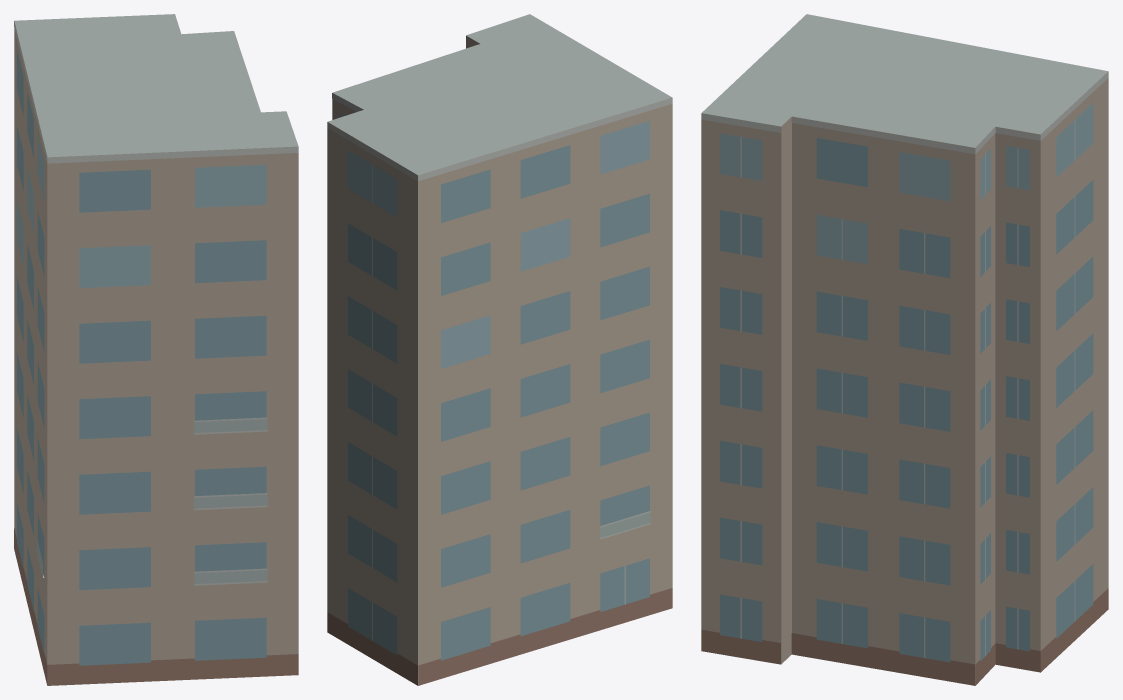
The model's file is survey-upis-32997789.glb.
3 views of the same model, side by side, from view 1: azimuth 30°, elevation 25°; view 2: azimuth 150°, elevation 25°; view 3: azimuth 270°, elevation 25° (orthographic). The views are drawn at different scales.
Parts seen in each view (by area): view 1: survey-upis-32997789.tmp; view 2: survey-upis-32997789.tmp; view 3: survey-upis-32997789.tmp.
Part boxes in pixels (x1,y1,x2,y2): survey-upis-32997789.tmp: (14, 14, 298, 685); survey-upis-32997789.tmp: (327, 14, 672, 685); survey-upis-32997789.tmp: (701, 14, 1108, 685).
Size of the model in its own units: 10.95 by 20.5 by 14.08.
